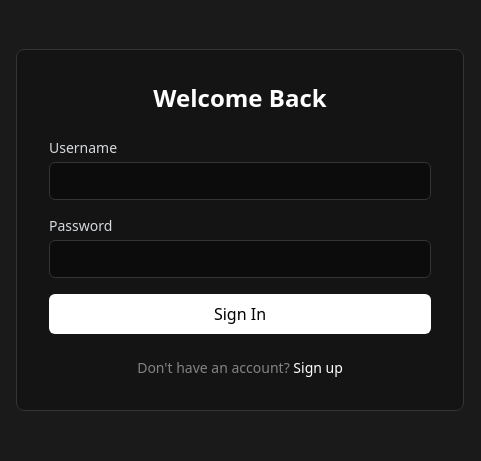
Test: TestLoginPage › displays error message when login fails
Note: Fill in the form
Type "testuser" into the field labelled "Username" at x=240, y=181, box x1=49 y1=162 x2=431 y2=200
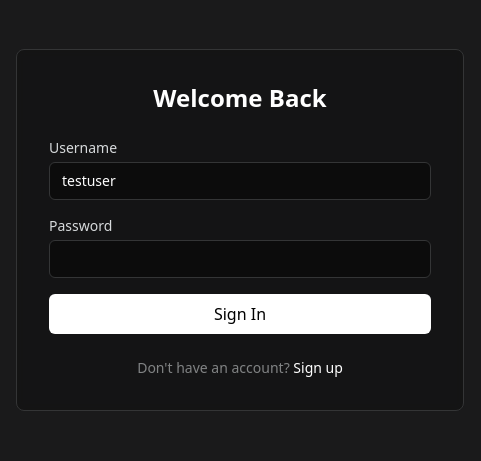
Type "wrongpassword" into the password field labelled "Password" at x=240, y=259, box x1=49 y1=240 x2=431 y2=278
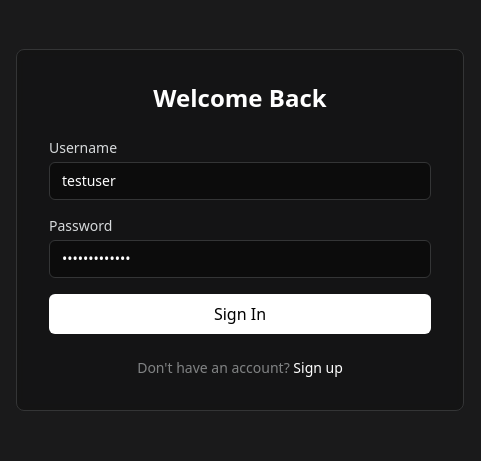
Note: Submit the form
Click the button "Sign In" at x=240, y=314, box x1=49 y1=294 x2=431 y2=334
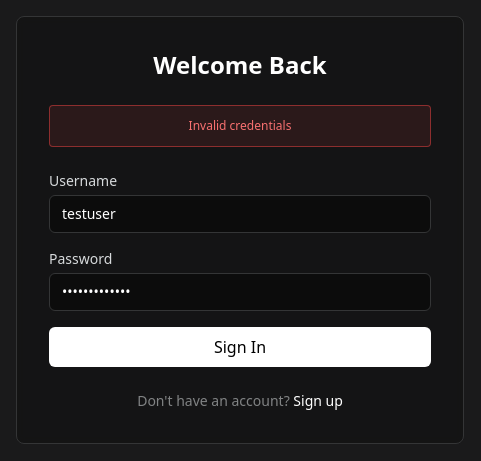
Check: the text "Invalid credentials" is shown, box x1=49 y1=105 x2=431 y2=147
